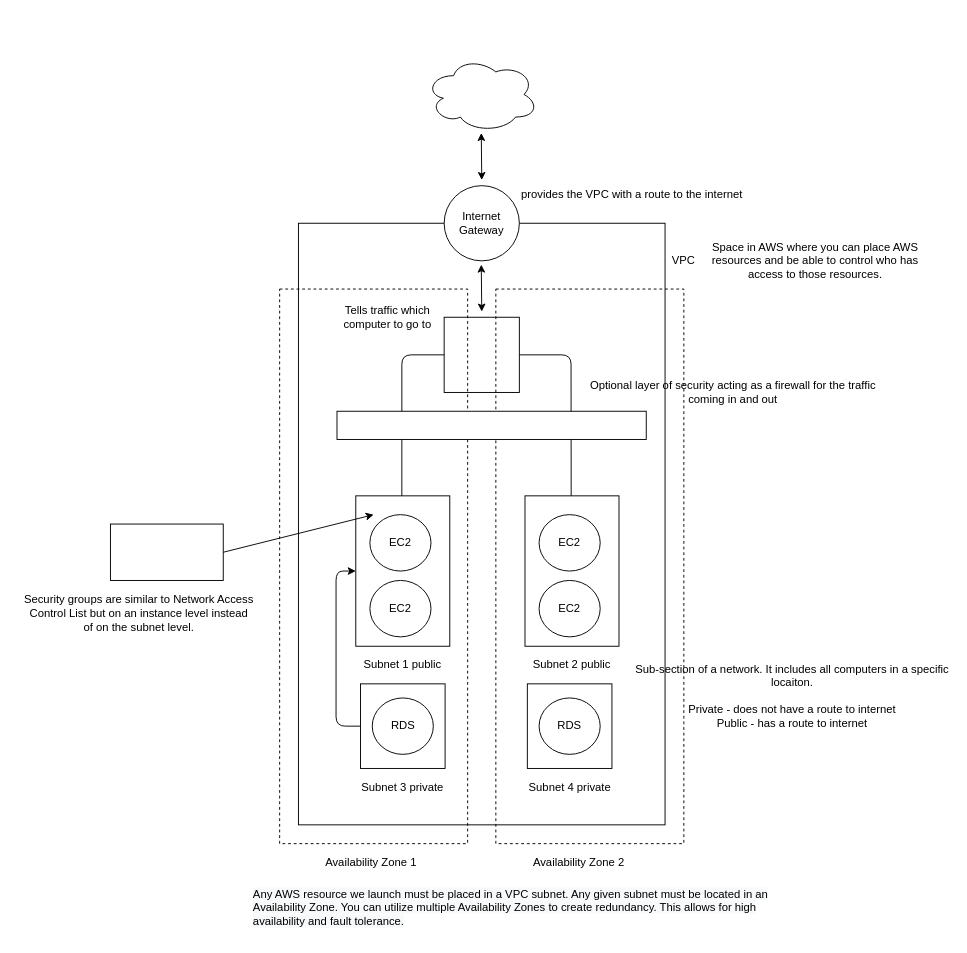
The diagram is 967 pixels wide and 953 high, and some of its shapes have lost their labels. Here are the shapes that lost their labels. From the top down, the centre of each, then its label:
the point at 481,94: Internet
the point at 481,354: Route Table
the point at 491,424: Network Access Control List
the point at 166,551: Security Group
